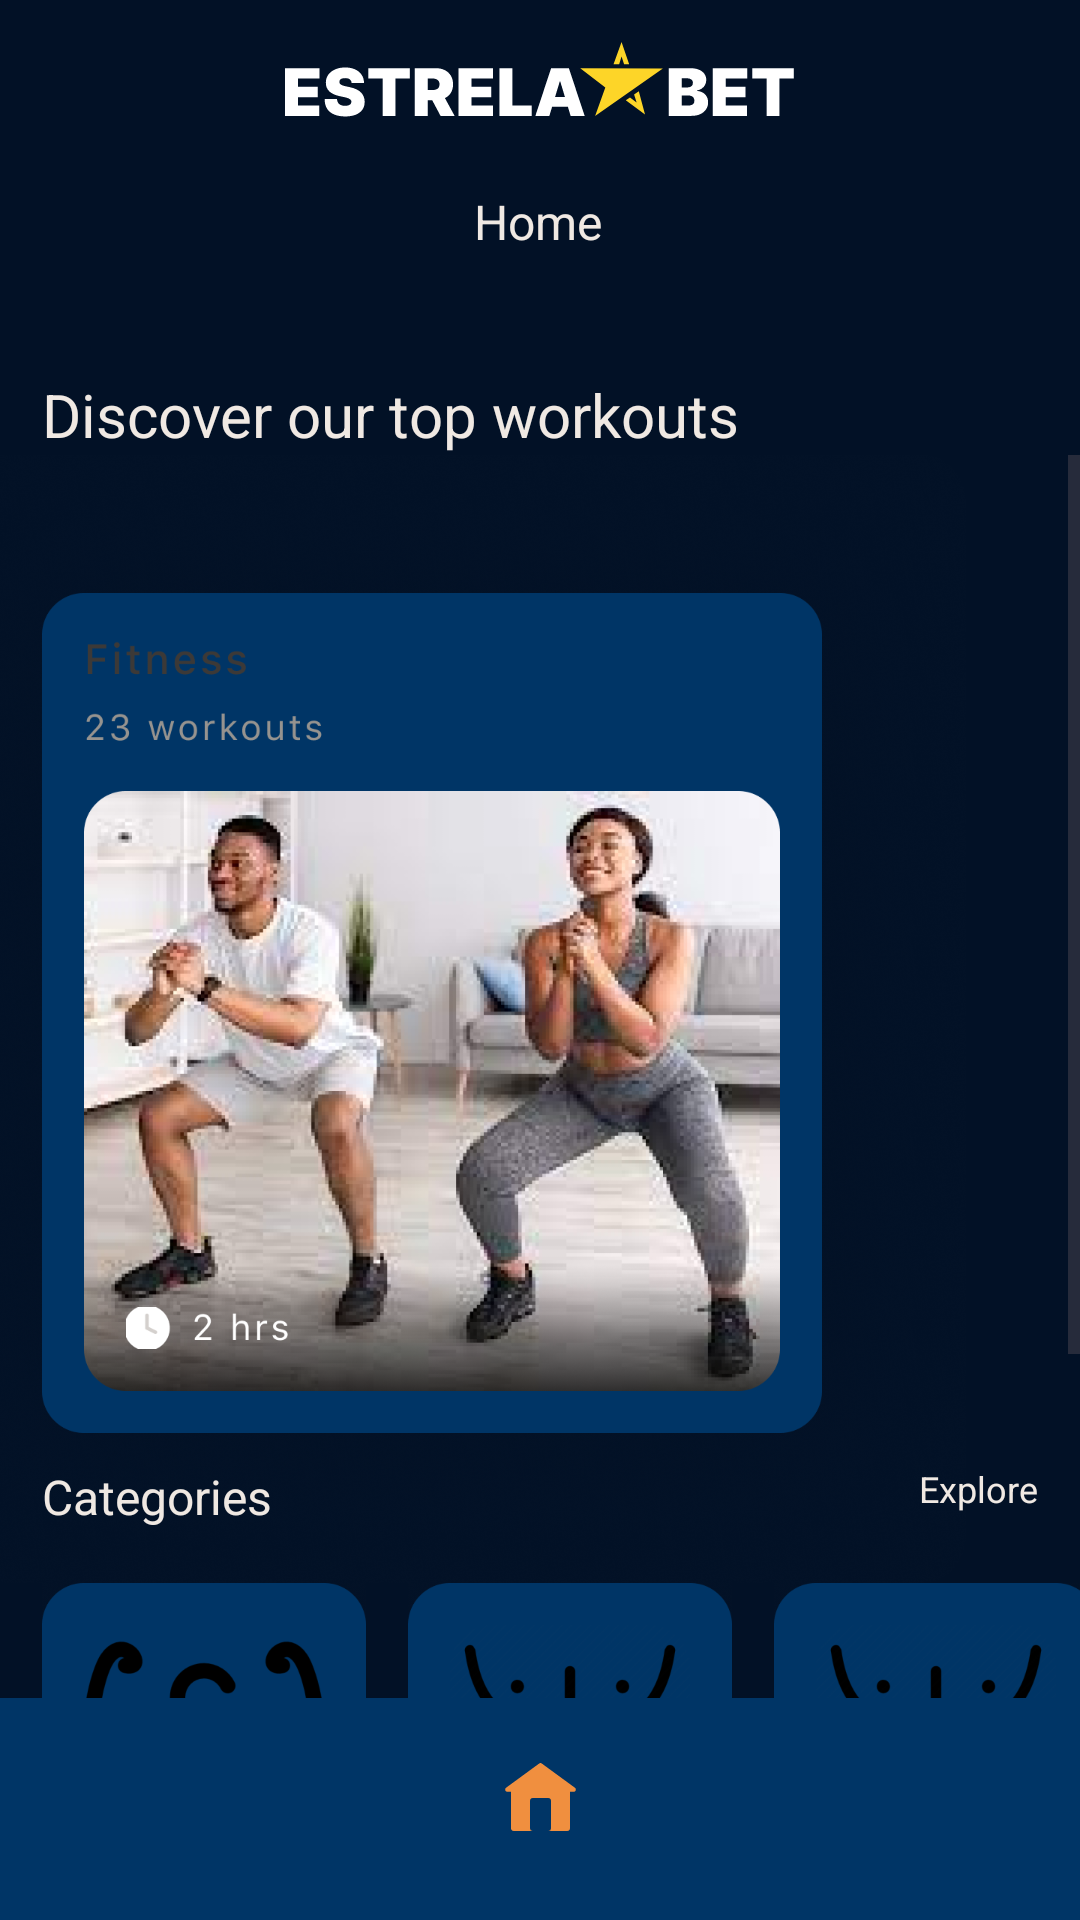

Icons on this 1080×1920 Android screen, each with the point to tap as point (x, y):
home true: point (540, 1797)
